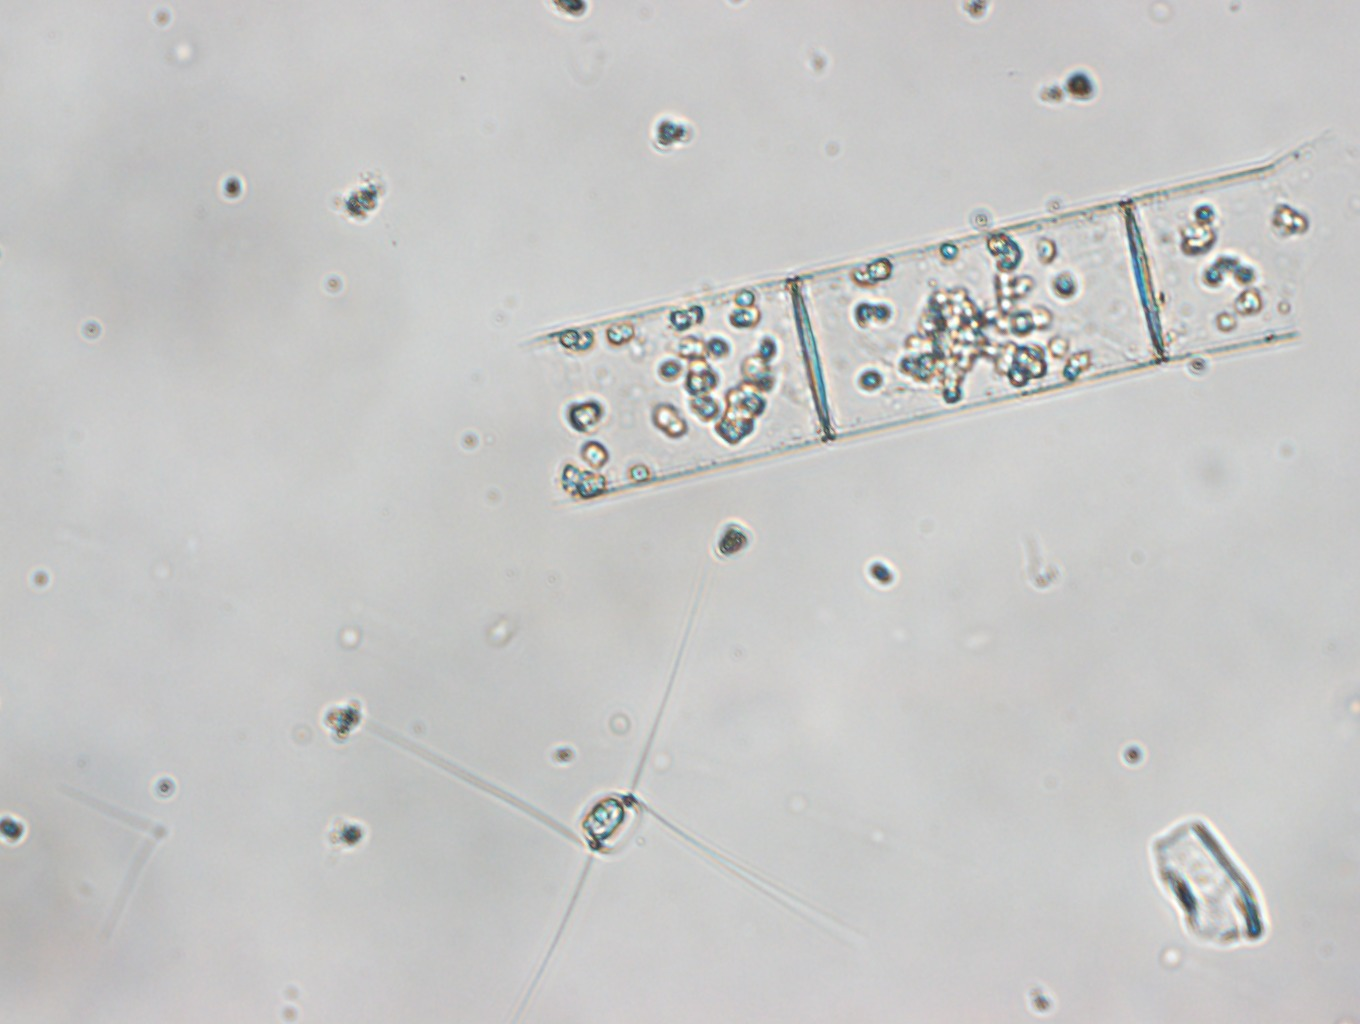chaetoceros: (343, 572, 882, 1008)
guinardia flaccida: (526, 122, 1338, 511)
